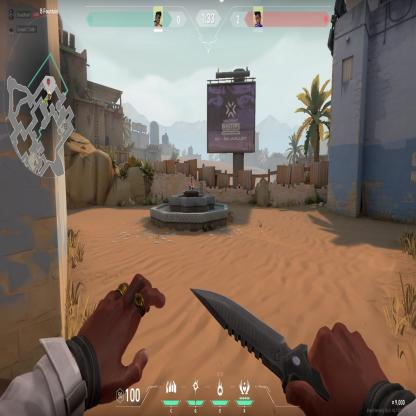enemy: (188, 177, 195, 192)
